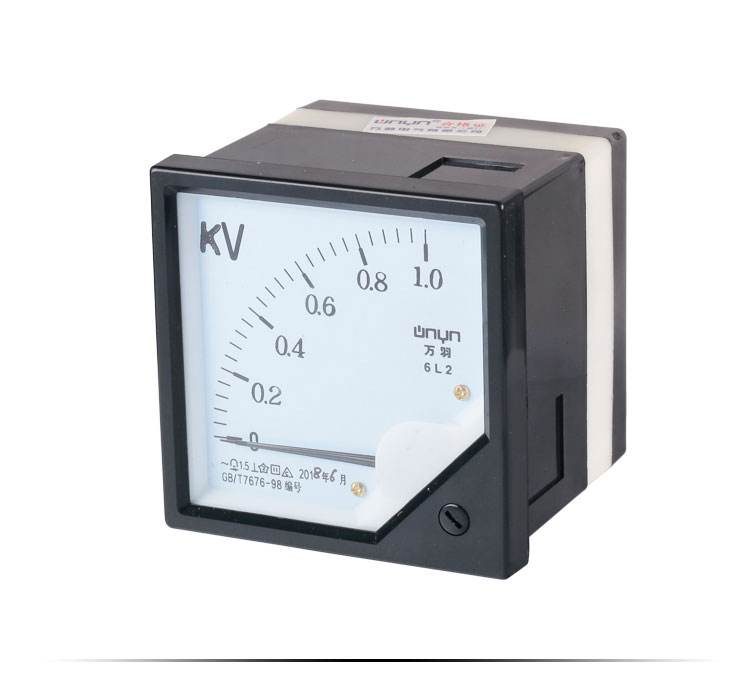pointer: (169, 188, 489, 538)
